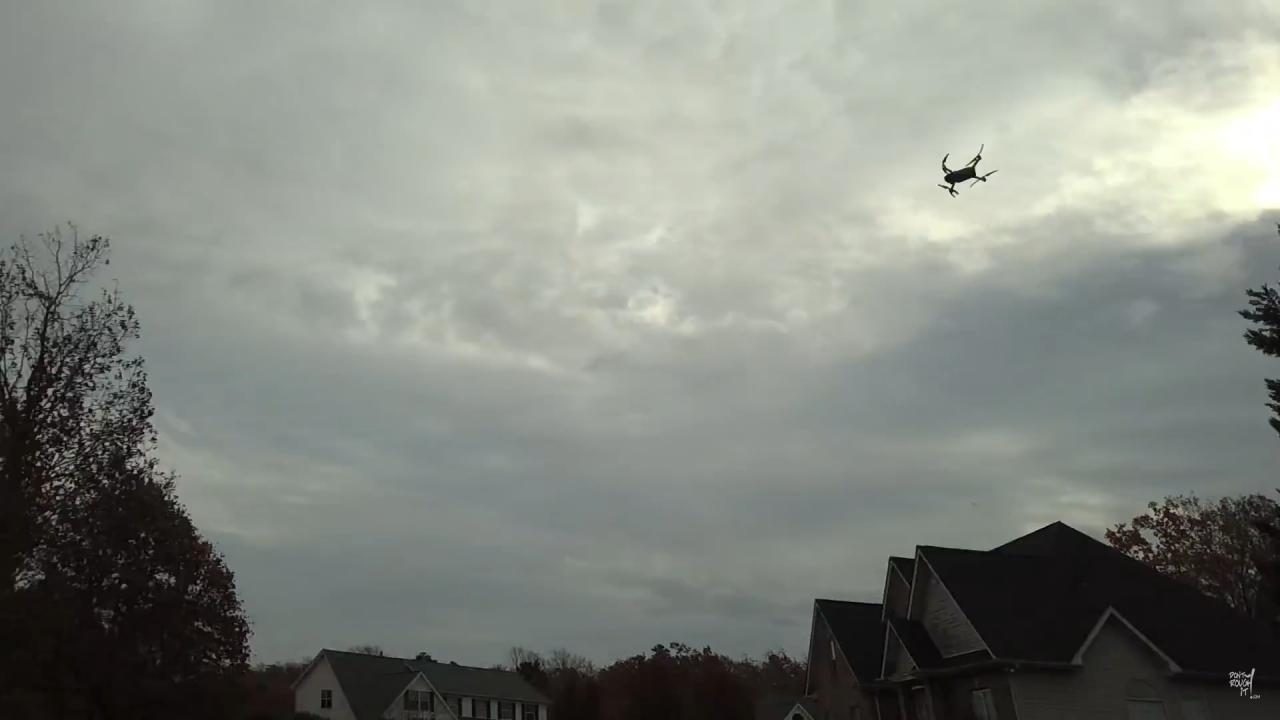Drone: (930, 137, 1004, 202)
